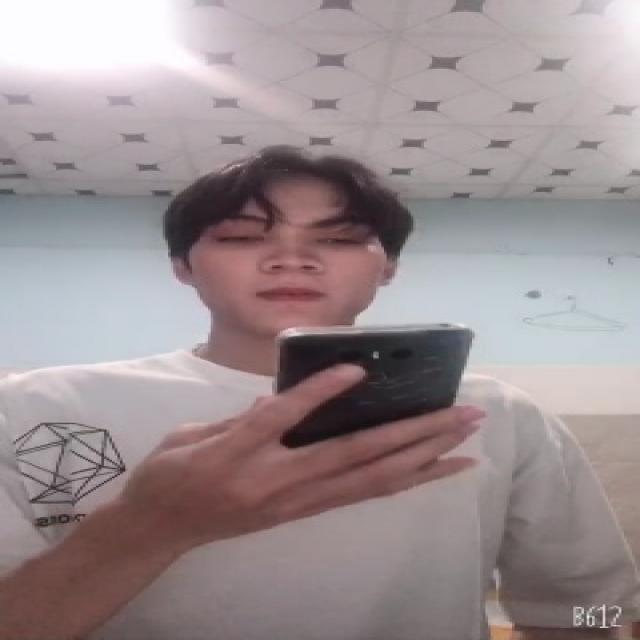Phone: (273, 320, 477, 448)
